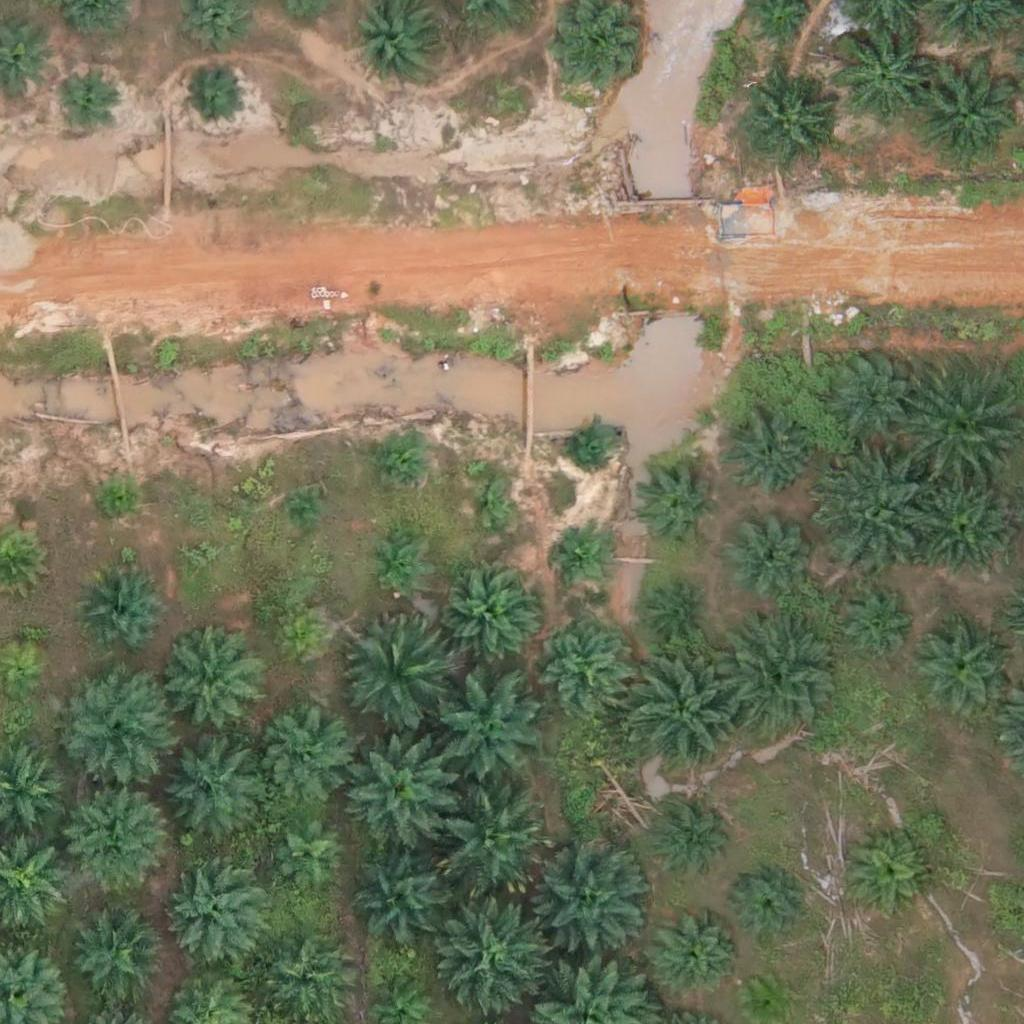Kelapa_Sawit: (724, 626, 837, 740), (629, 649, 742, 762), (428, 673, 541, 786), (441, 906, 554, 1019), (337, 613, 450, 726), (342, 745, 455, 858), (910, 60, 1023, 173), (530, 839, 642, 953), (58, 668, 170, 782), (906, 376, 1018, 489), (816, 455, 928, 568), (439, 790, 551, 903), (912, 474, 1012, 575), (818, 341, 918, 442), (348, 852, 448, 953), (165, 636, 265, 737), (63, 793, 163, 894), (738, 72, 838, 173), (913, 616, 1013, 716), (444, 565, 544, 665), (259, 706, 359, 806), (166, 743, 266, 843), (159, 863, 259, 963), (831, 26, 931, 126), (78, 565, 166, 653), (71, 912, 159, 1000), (724, 412, 811, 501), (831, 582, 918, 670), (724, 511, 811, 599), (540, 615, 627, 703), (634, 459, 721, 547), (844, 832, 931, 920), (661, 918, 736, 994), (728, 870, 803, 946), (652, 796, 727, 871), (271, 813, 346, 888), (51, 68, 114, 131), (184, 64, 246, 127), (556, 528, 606, 579), (563, 418, 613, 468), (654, 587, 704, 637), (466, 481, 516, 531), (374, 435, 424, 485), (369, 538, 419, 588), (283, 496, 321, 534), (97, 480, 134, 518), (273, 615, 310, 652), (186, 543, 211, 569)
